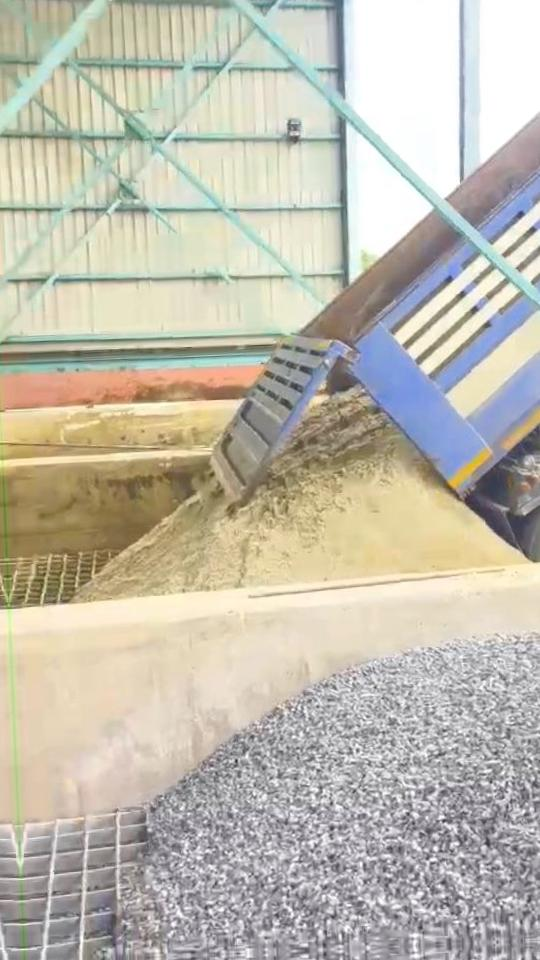gravel: (124, 636, 540, 955)
sand: (78, 391, 523, 600)
